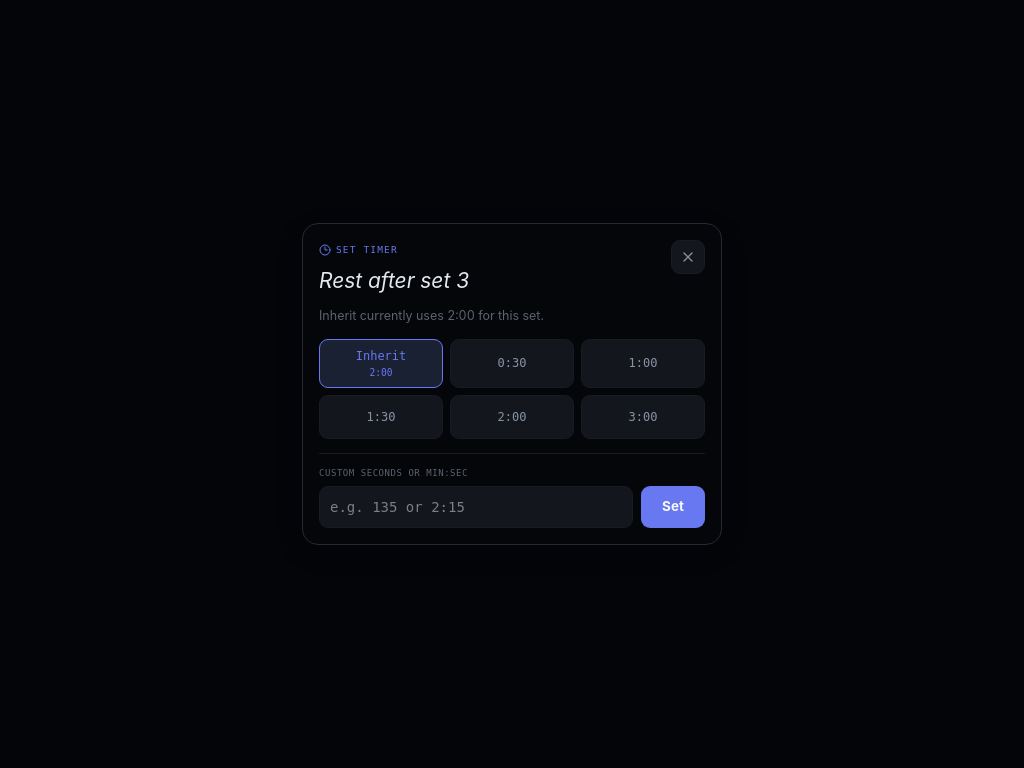
SetRestPicker units guard › does not commit a bare "3" — asks which unit was meant
Type "3" into the field named "Custom rest time" at (476, 507), box [319, 486, 633, 528]
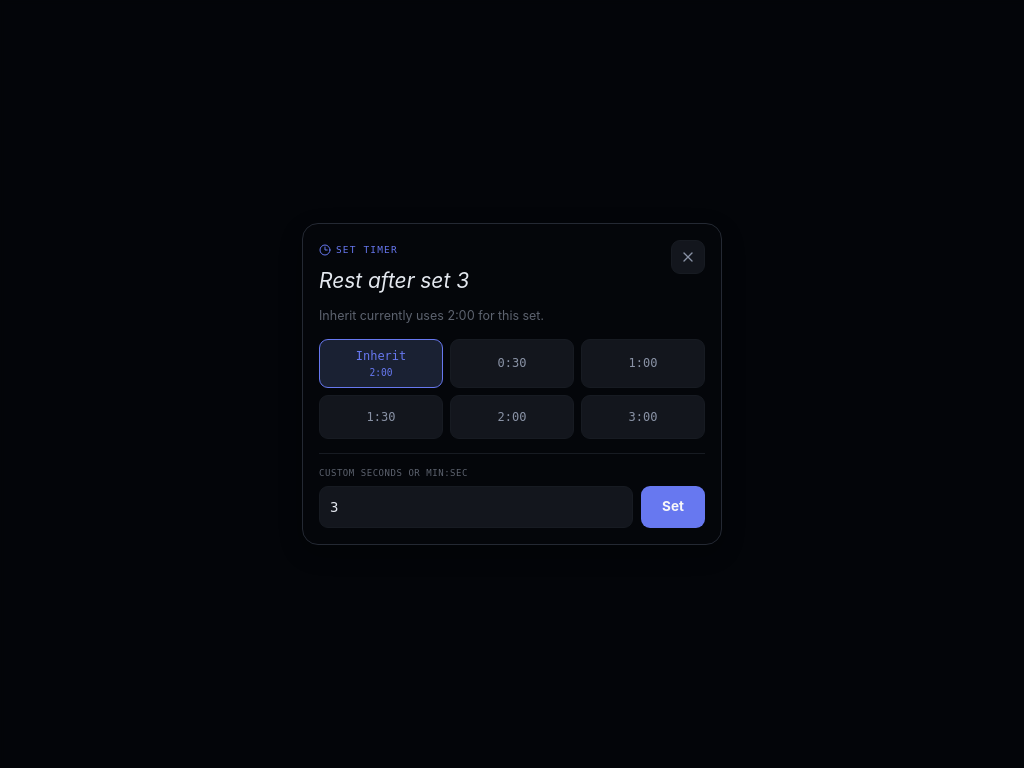
Click the button "Set" at (673, 507), box [641, 486, 705, 528]
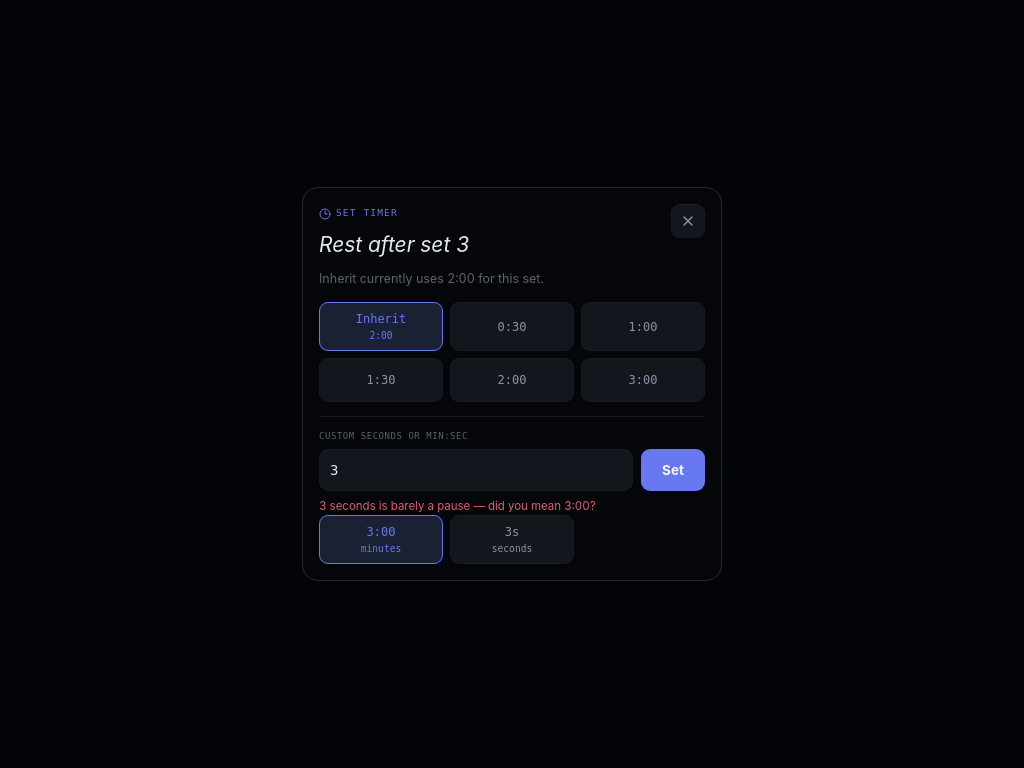
expect the element named "Confirm rest units" is shown: met, box [319, 499, 596, 564]
expect the text "3 seconds is barely a pause — did you mean 3:00?" is shown: met, box [319, 499, 596, 513]
